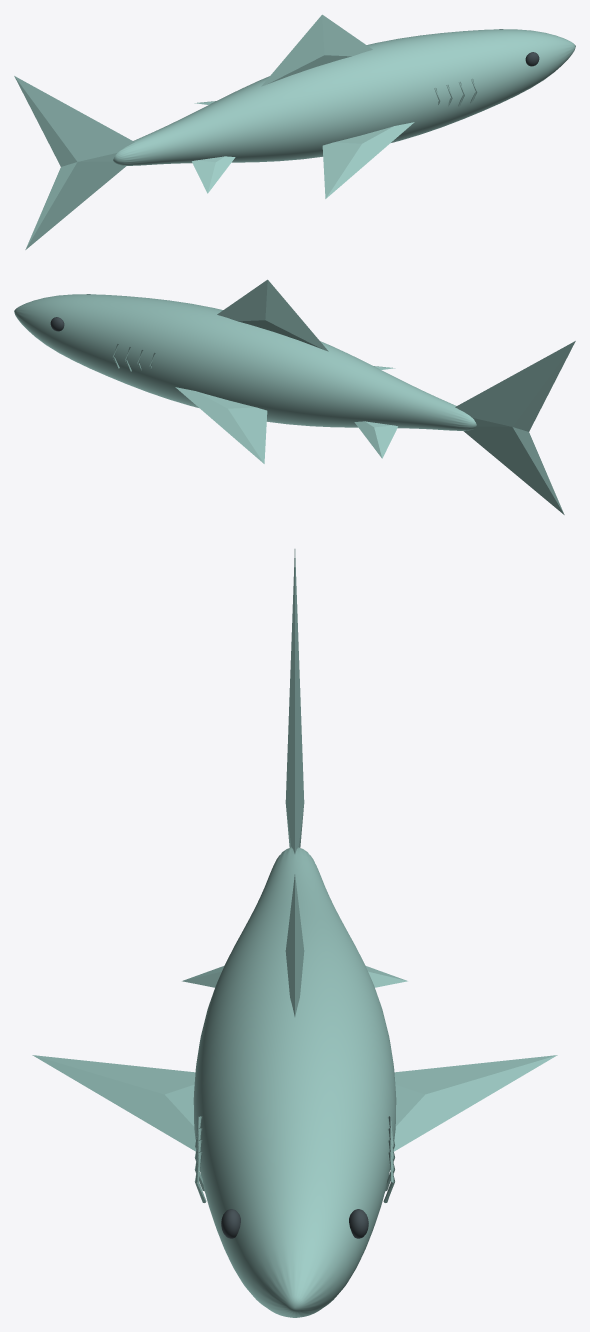
3 views of the same model, one above another, from view 1: azimuth 30°, elevation 25°; view 2: azimuth 150°, elevation 25°; view 3: azimuth 270°, elevation 25° (orthographic). The views are drawn at different scales.
Visible parts, largest first — view 1: Body, Tail, Dorsal, Pectoral, Pelvic; view 2: Body, Tail, Dorsal, Pectoral.001, Pelvic.001; view 3: Body, Pectoral.001, Pectoral, Tail, Dorsal.
Boxes of the visible parts, x1,y1,x2,y2 form: Body: [113, 29, 575, 165]; Tail: [14, 76, 134, 249]; Dorsal: [261, 14, 372, 86]; Pectoral: [322, 122, 414, 198]; Pelvic: [192, 156, 235, 193]; Body: [14, 294, 476, 430]; Tail: [455, 341, 575, 514]; Dorsal: [217, 279, 328, 351]; Pectoral.001: [175, 387, 267, 463]; Pelvic.001: [354, 421, 397, 458]; Body: [193, 847, 396, 1317]; Pectoral.001: [393, 1055, 557, 1151]; Pectoral: [32, 1055, 195, 1151]; Tail: [285, 549, 304, 853]; Dorsal: [285, 874, 304, 1016].
Size of the model in its own units: 252 by 76 by 102.
